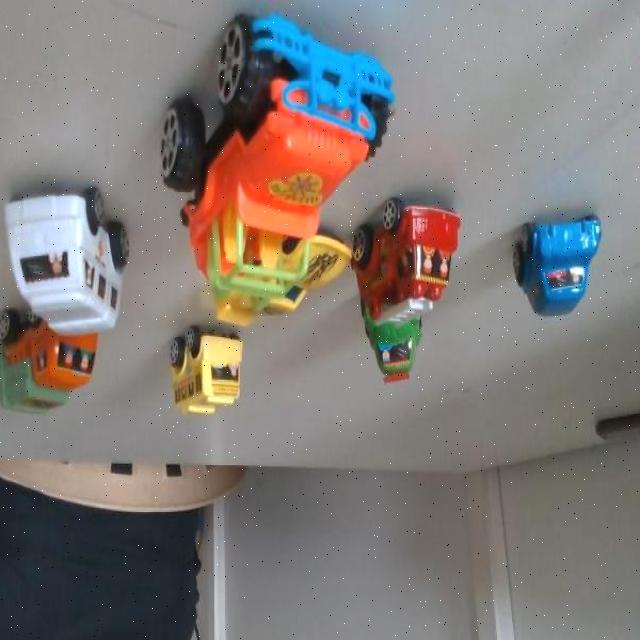car: (238, 10, 406, 219), (506, 182, 620, 331), (234, 213, 355, 330), (13, 197, 127, 320), (8, 299, 111, 421), (377, 185, 467, 322), (189, 328, 253, 422), (370, 291, 434, 379)
